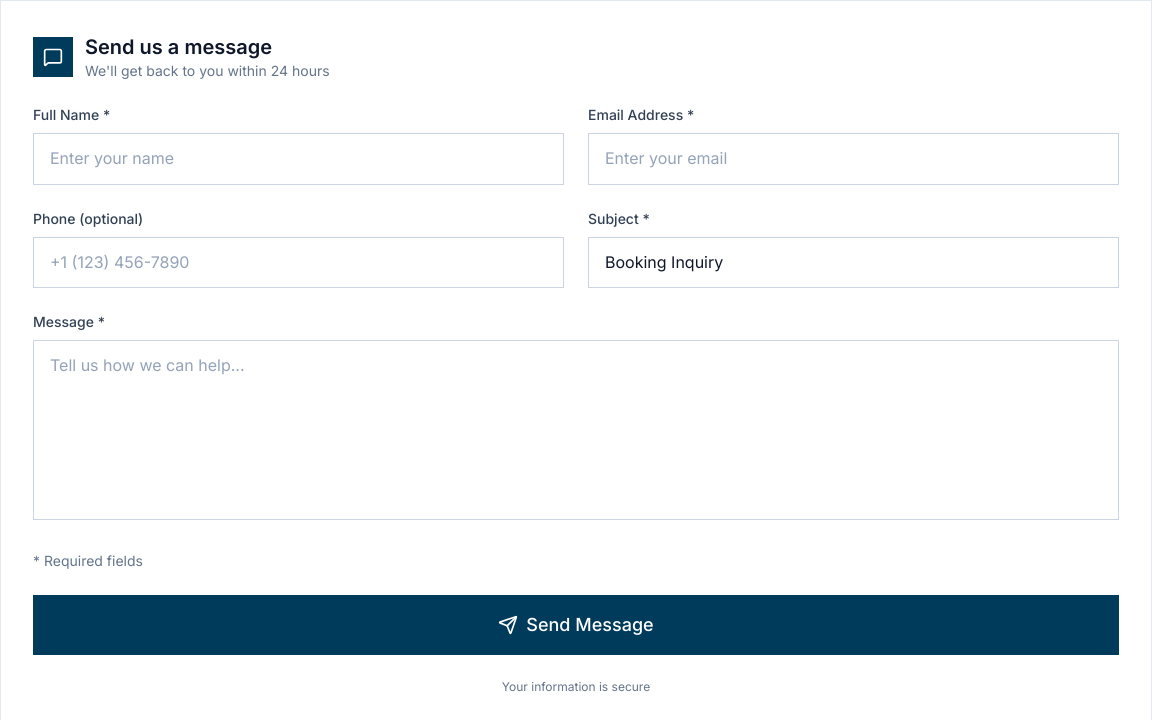
Test: ContactForm › shows validation errors on empty submit
Click the button "Send Message": (576, 625) [33,595,1119,655]
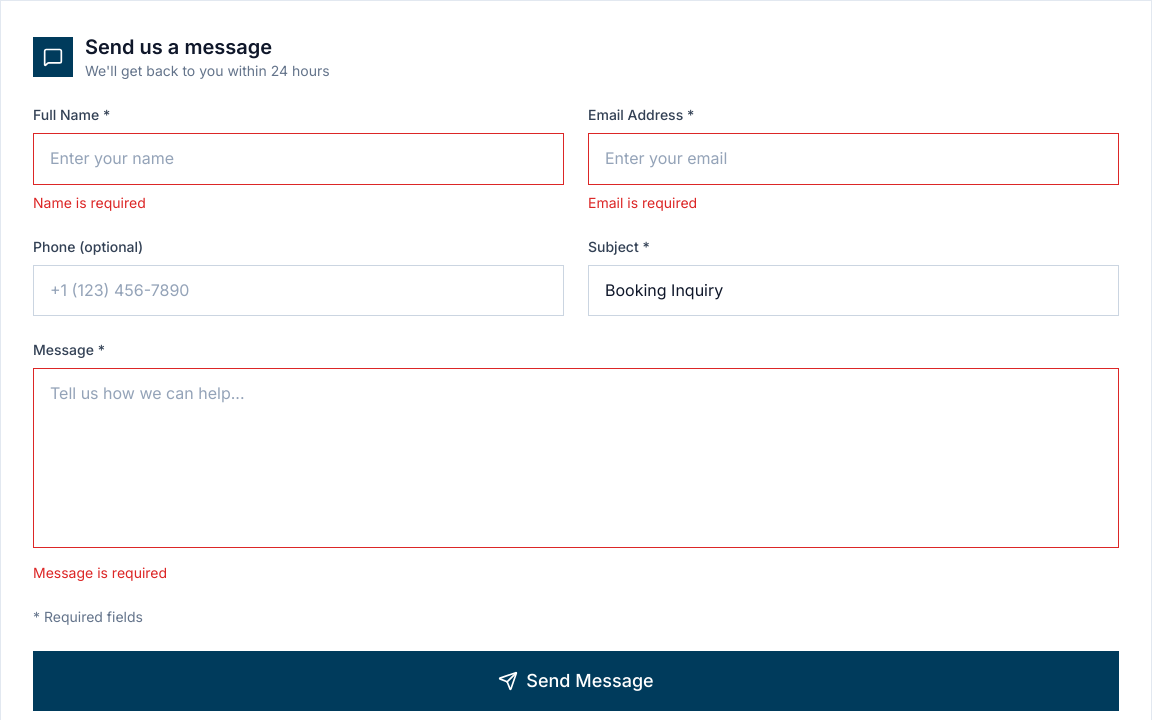
Check: the text "Name is required" is shown, box [33,194,146,211]
Check: the text "Email is required" is shown, box [588,194,697,211]
Check: the text "Message is required" is shown, box [33,564,167,581]
